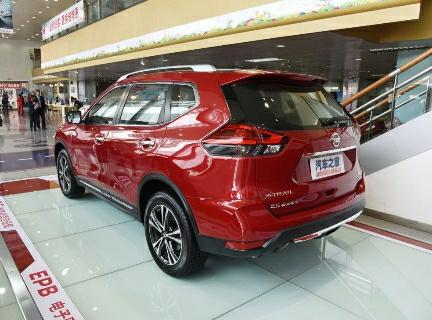car: (29, 60, 387, 284)
